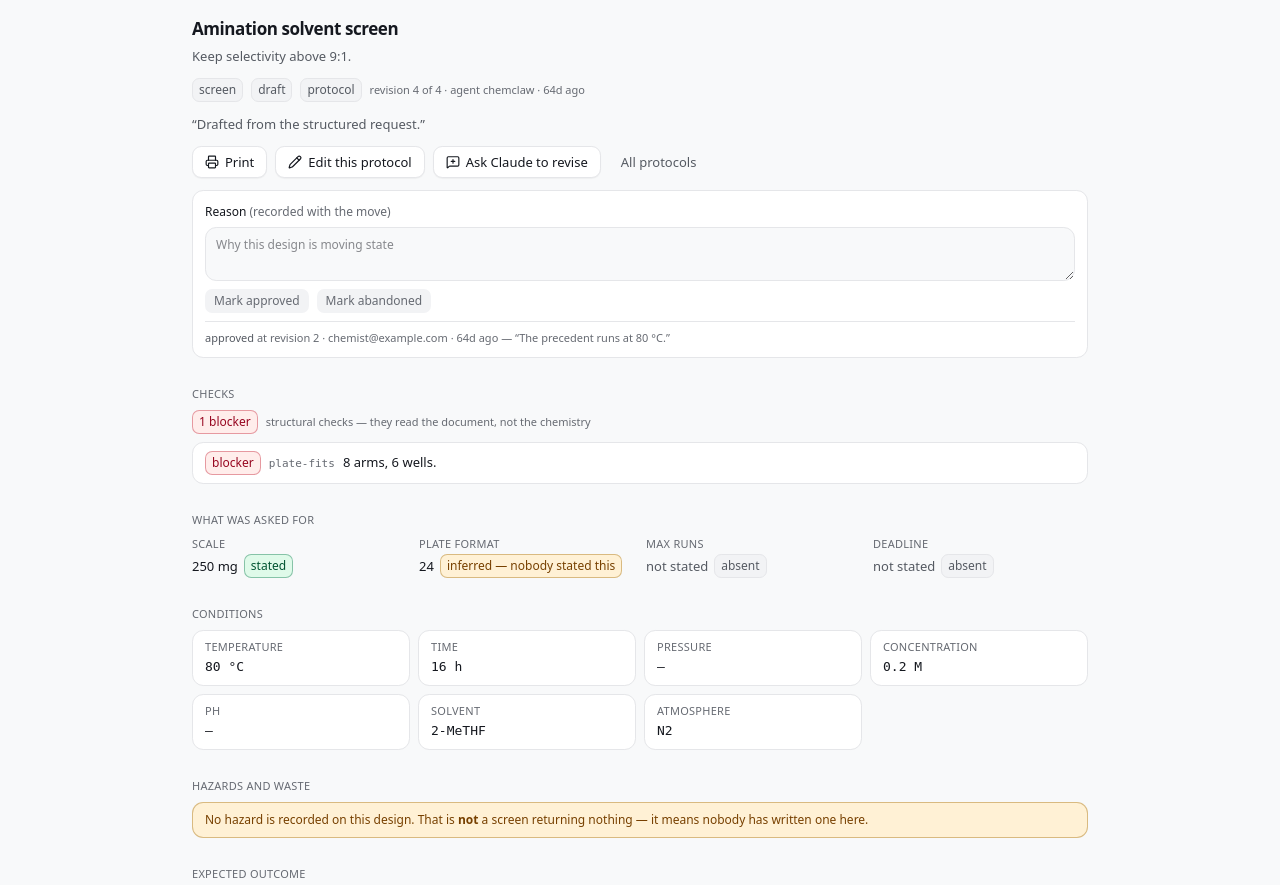
Test: ProtocolDocument › says the document moved when that is what moved, which is a different remedy
Type "looks fine to me" into the text box with placeholder "Why this design is moving state" at (640, 254), box [205,226,1075,280]
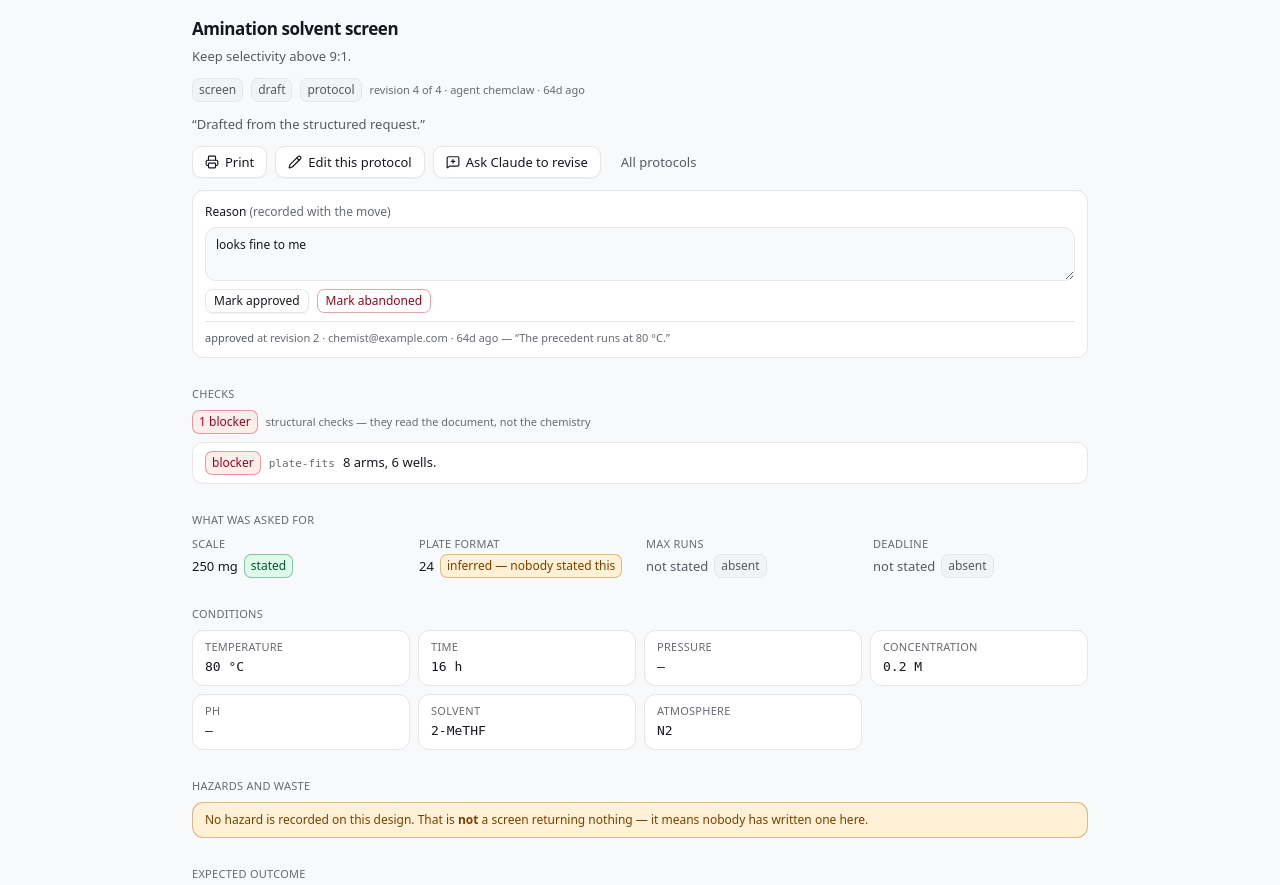
Click the button "Mark approved" at (257, 300), box [205,288,309,312]
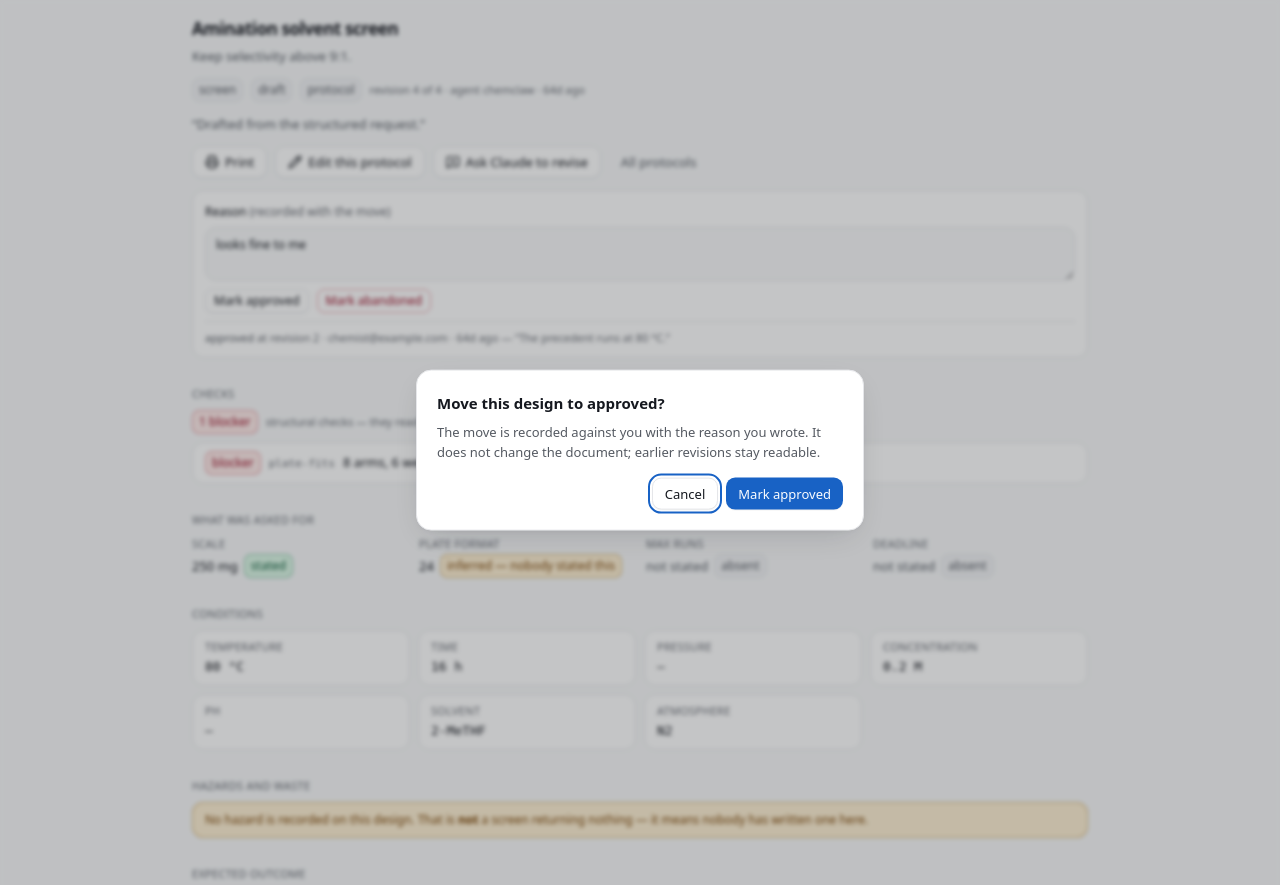
Click the button "Mark approved" at (785, 493), box [726,477,843,509]
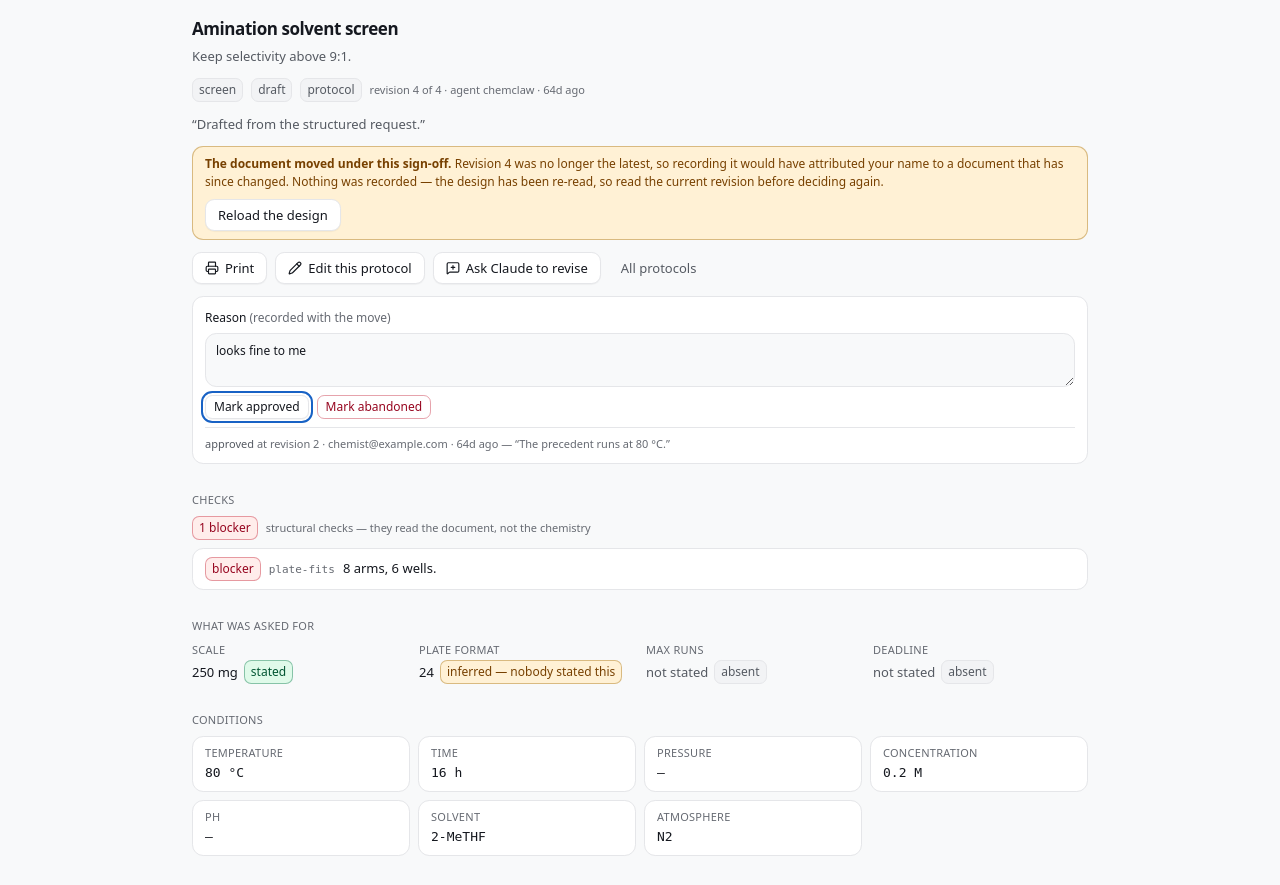
Check: the message shows "The document moved under this sign-off", box [205,154,452,172]
Check: the message shows "Revision 4 was no longer the latest", box [192,146,1088,240]
